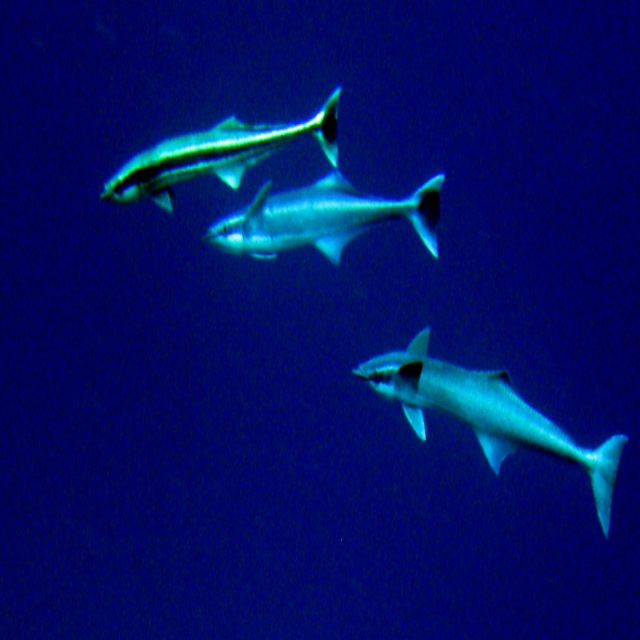Fish: (350, 291, 624, 536), (98, 88, 344, 218), (207, 170, 445, 284)
